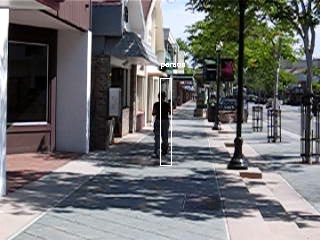person: (152, 92, 174, 159), (151, 92, 173, 159), (153, 92, 175, 159), (152, 91, 174, 158), (152, 93, 174, 160)
target_negative: (3, 156, 44, 216), (221, 199, 297, 221), (208, 9, 222, 107), (125, 65, 227, 77), (289, 149, 291, 158)
